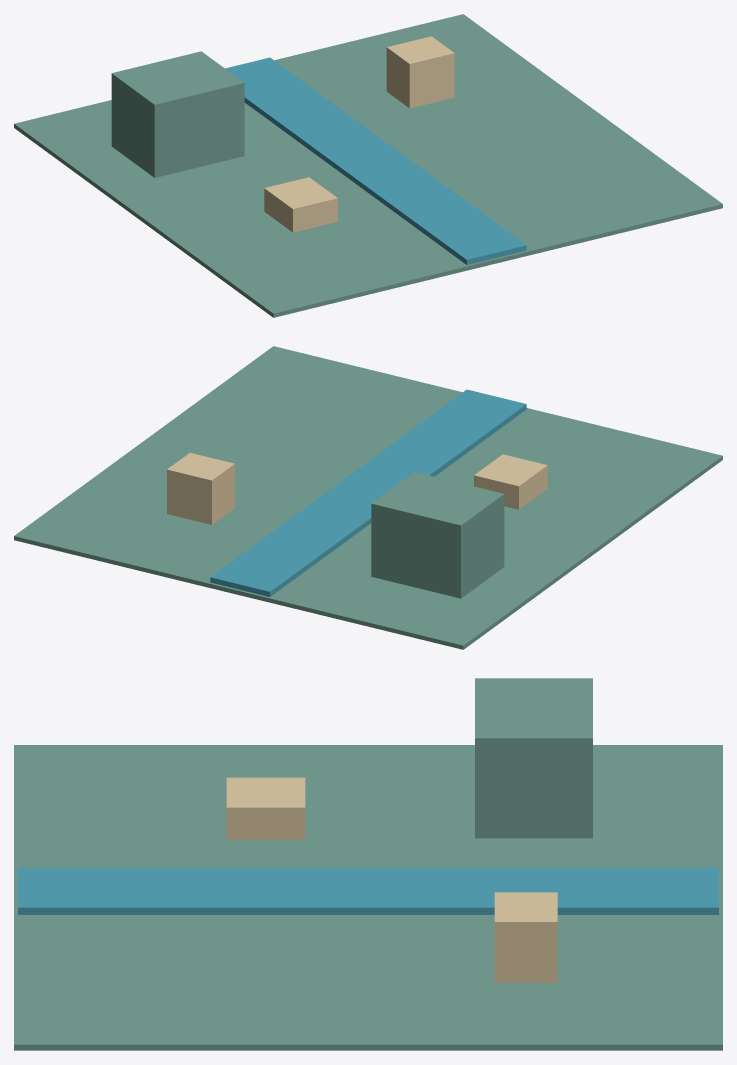
The model's file is engine-test.gltf.
3 views of the same model, one above another, from view 1: azimuth 30°, elevation 25°; view 2: azimuth 150°, elevation 25°; view 3: azimuth 270°, elevation 25° (orthographic). The views are drawn at different scales.
Size of the model in its own units: 900 by 148 by 900.
